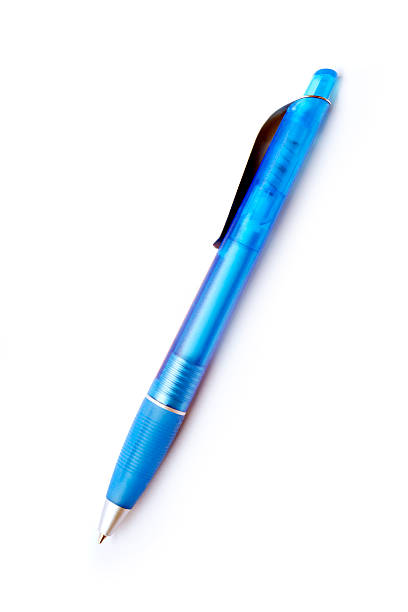pen: (87, 63, 371, 551)
